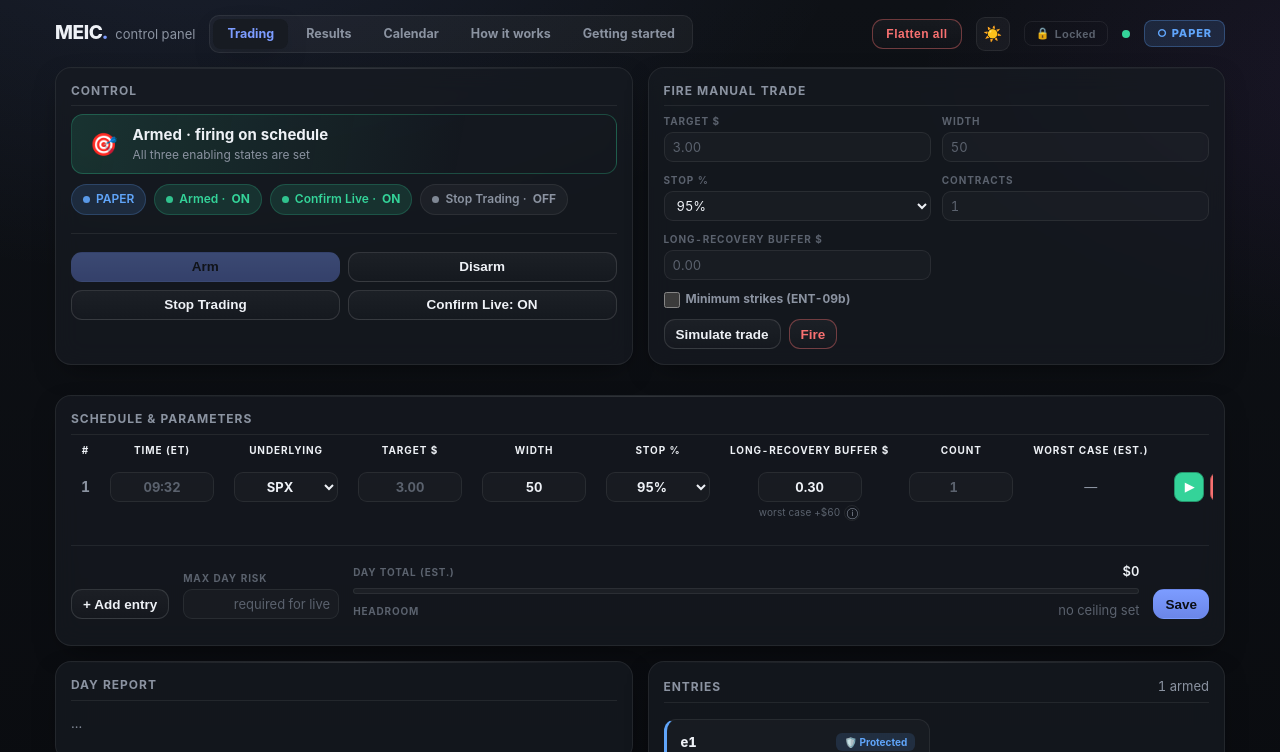
Test: App — Close / Flatten (UI-16 / TC-FLT-01) › saves the User Password and confirms it was accepted by the backend
This screenshot has width=1280, height=752.
Click the button with aria-label "user password" at (1066, 34), box [1024,21,1108,46]
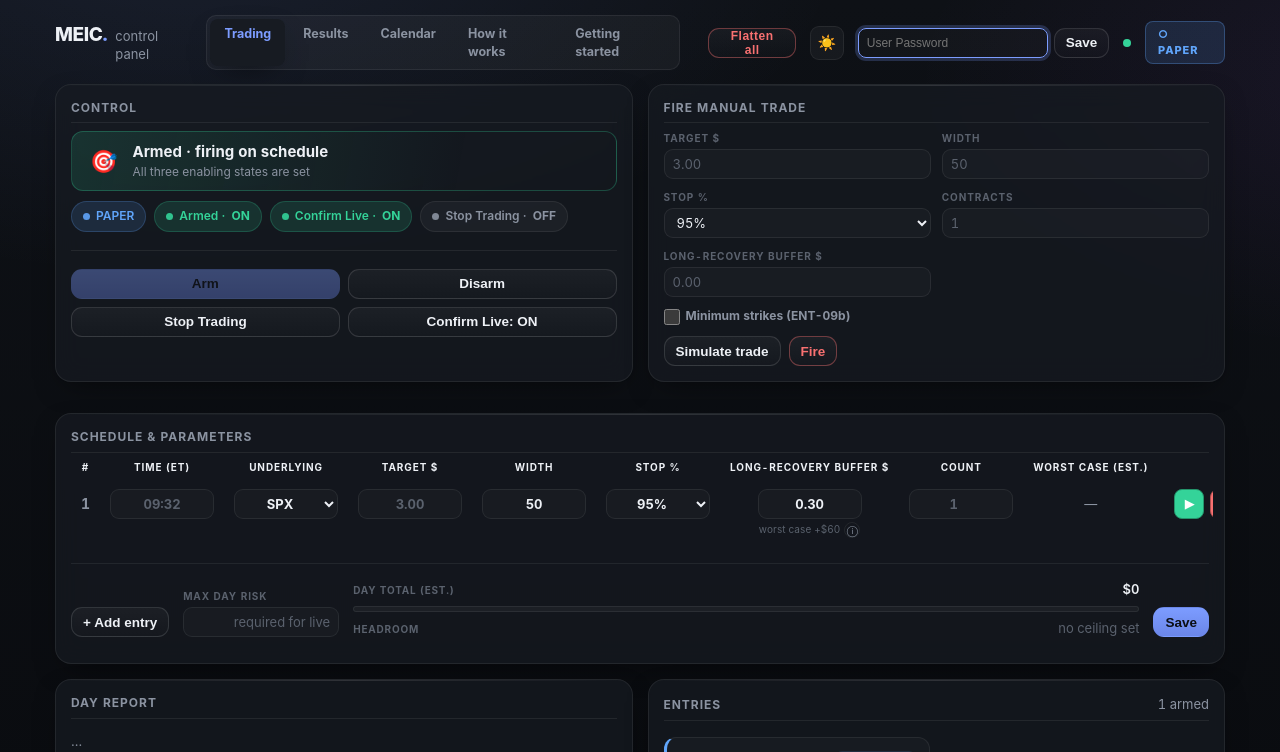
Type "s3cr3t-token" into the password field labelled "User Password" at (953, 42), box [858,28,1048,58]
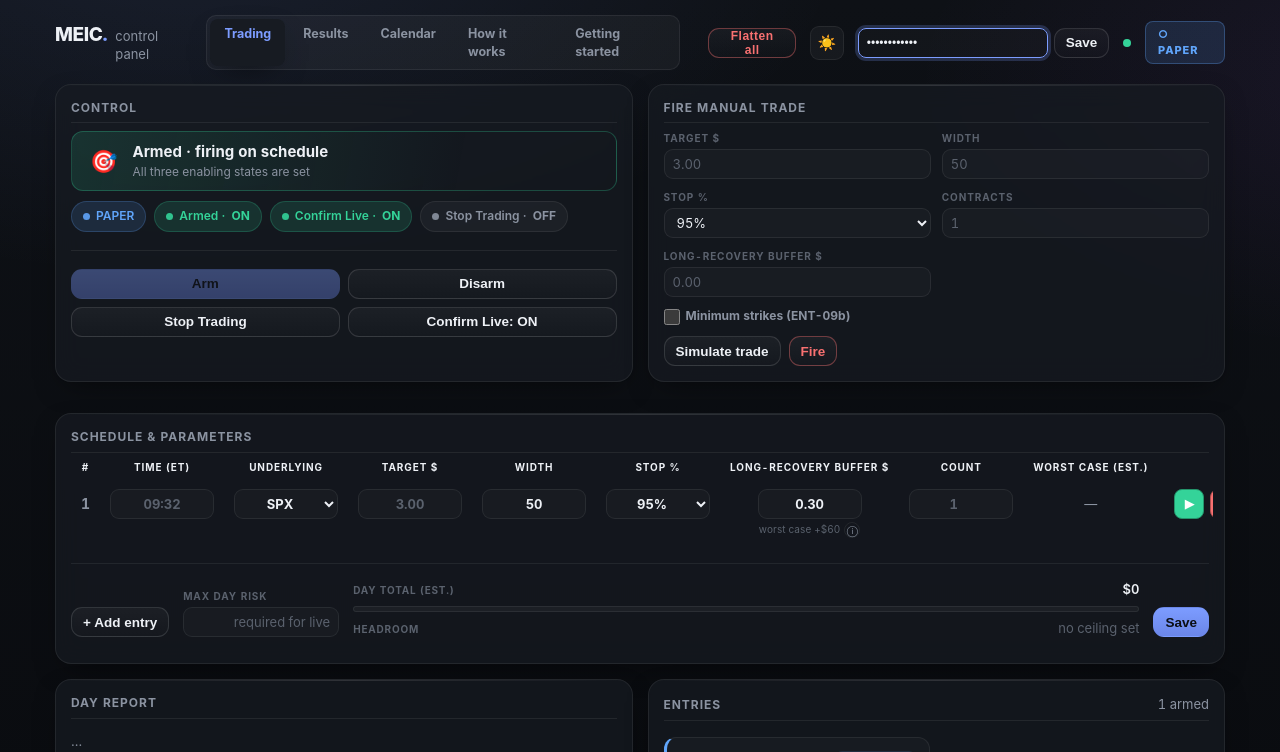
Click the button with aria-label "save user password" at (1082, 42), box [1054,28,1109,58]
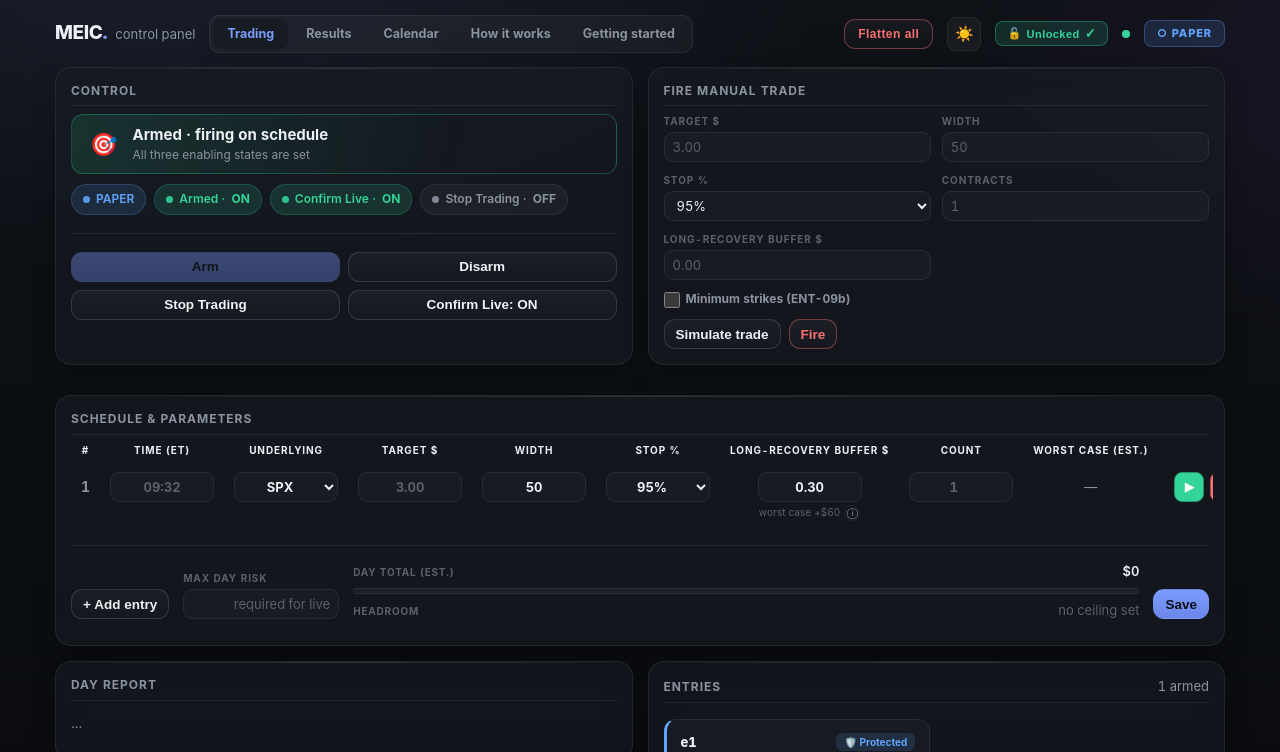
Expected: the button with aria-label "user password" shows "Unlocked", [995,21,1108,46]
Expected: the message named "password correct" reads "✓", [1085,26,1096,41]
